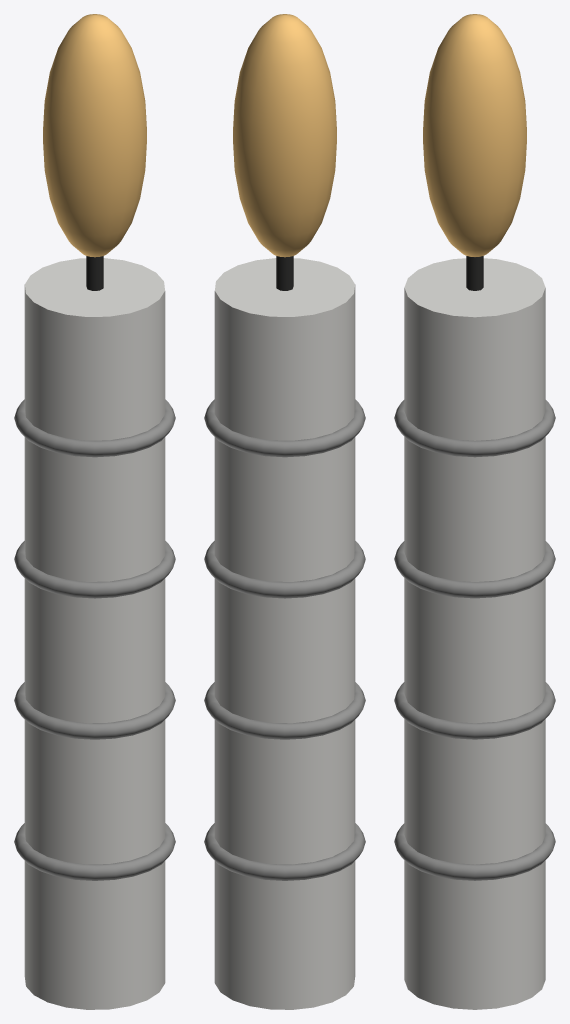
Rendered from candle.glb.
3 views of the same model, side by side, from view 1: azimuth 30°, elevation 25°; view 2: azimuth 150°, elevation 25°; view 3: azimuth 270°, elevation 25° (orthographic).
Parts seen in each view (by area): view 1: Candle; view 2: Candle; view 3: Candle.
Part boxes in pixels (x1,y1,x2,y2): Candle: (14,14,175,1009); Candle: (204,14,365,1009); Candle: (394,14,555,1009).
Bounding box in the file's own units: 0.055 × 0.362 × 0.055.
